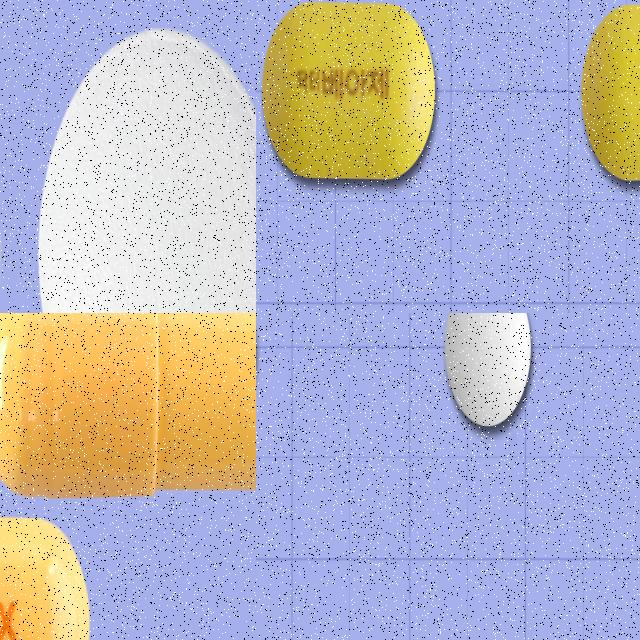Dr- Bearse: (262, 1, 435, 180), (581, 1, 640, 179)
Levofcin: (445, 313, 531, 426)
Newloxacin Tab: (36, 26, 256, 313)
TaeJoon Levofloxacin Tab: (0, 313, 256, 492)
